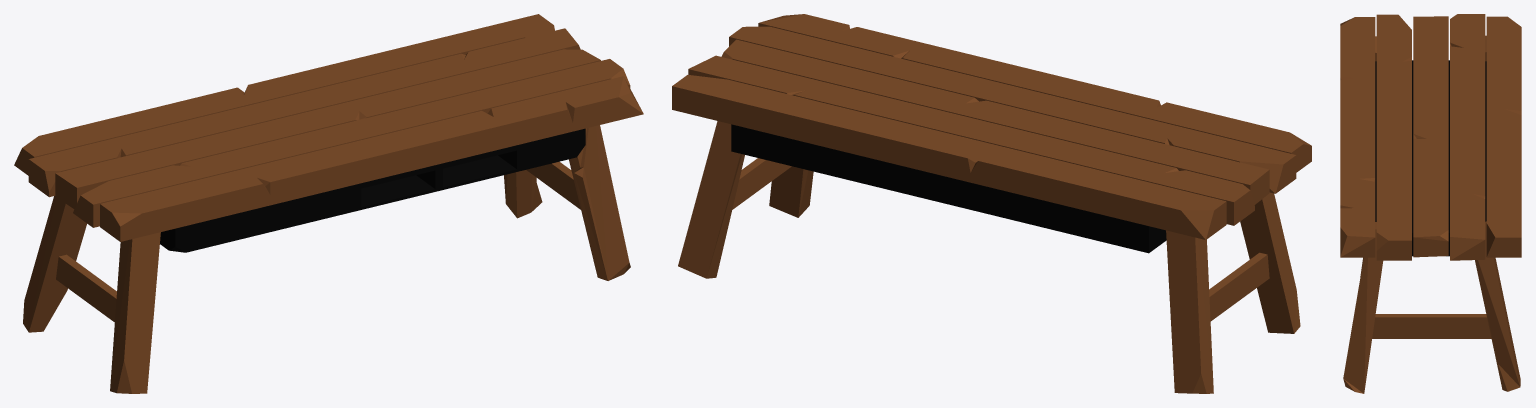
File: desk.FBX
3 renders of one model, left to right at view 1: azimuth 30°, elevation 25°; view 2: azimuth 150°, elevation 25°; view 3: azimuth 270°, elevation 25°, orthographic. The views are drawn at different scales.
Visible parts, largest first — view 1: Box006; view 2: Box006; view 3: Box006.
Part boxes in pixels (x1=…): Box006: x1=14, y1=14, x2=643, y2=393; Box006: x1=672, y1=14, x2=1311, y2=393; Box006: x1=1340, y1=14, x2=1521, y2=393.
Size of the model in its own units: 153 by 51.65 by 51.09.
